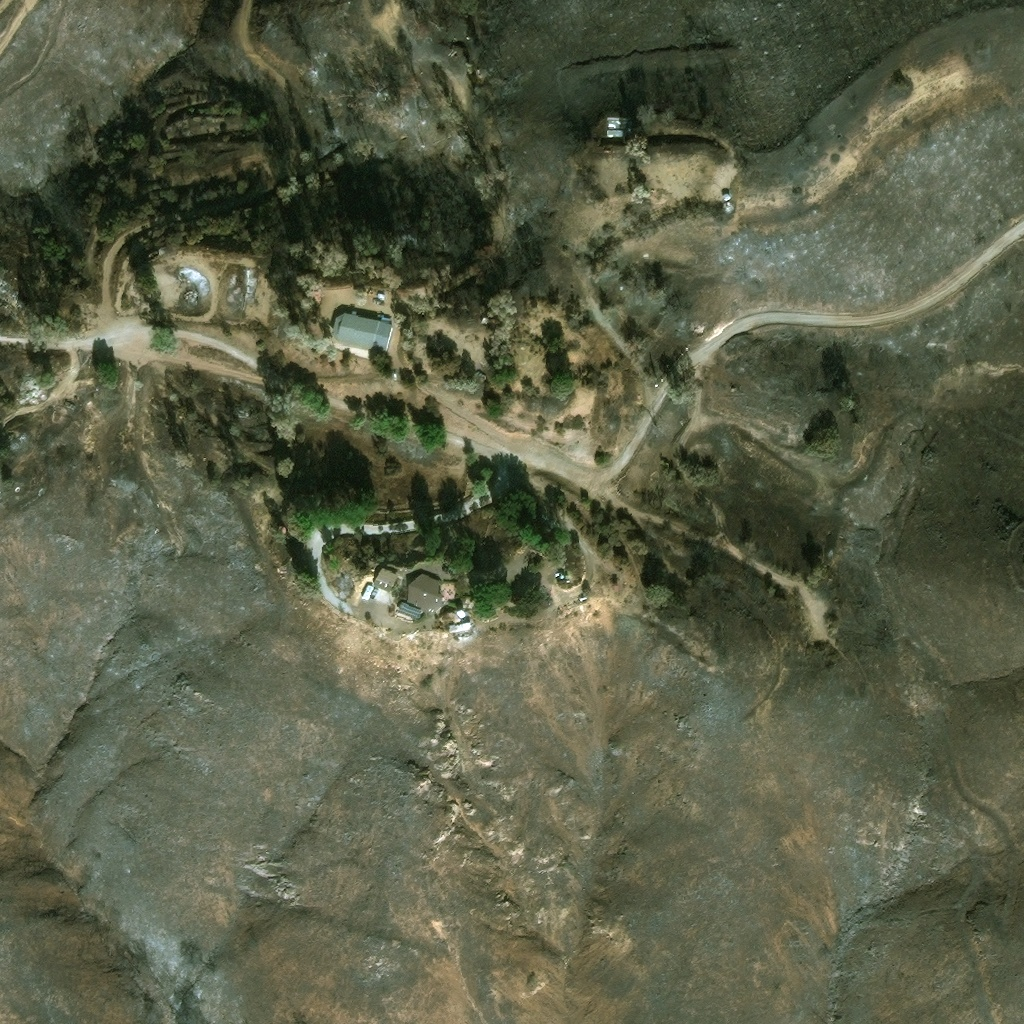0 no-damage: (328, 308, 392, 357), (396, 570, 446, 618), (373, 564, 398, 586), (373, 585, 392, 604), (447, 621, 469, 633), (360, 583, 373, 599), (721, 190, 730, 199), (720, 201, 728, 209), (455, 609, 463, 617)
1 minor-damage: (605, 114, 628, 137)
